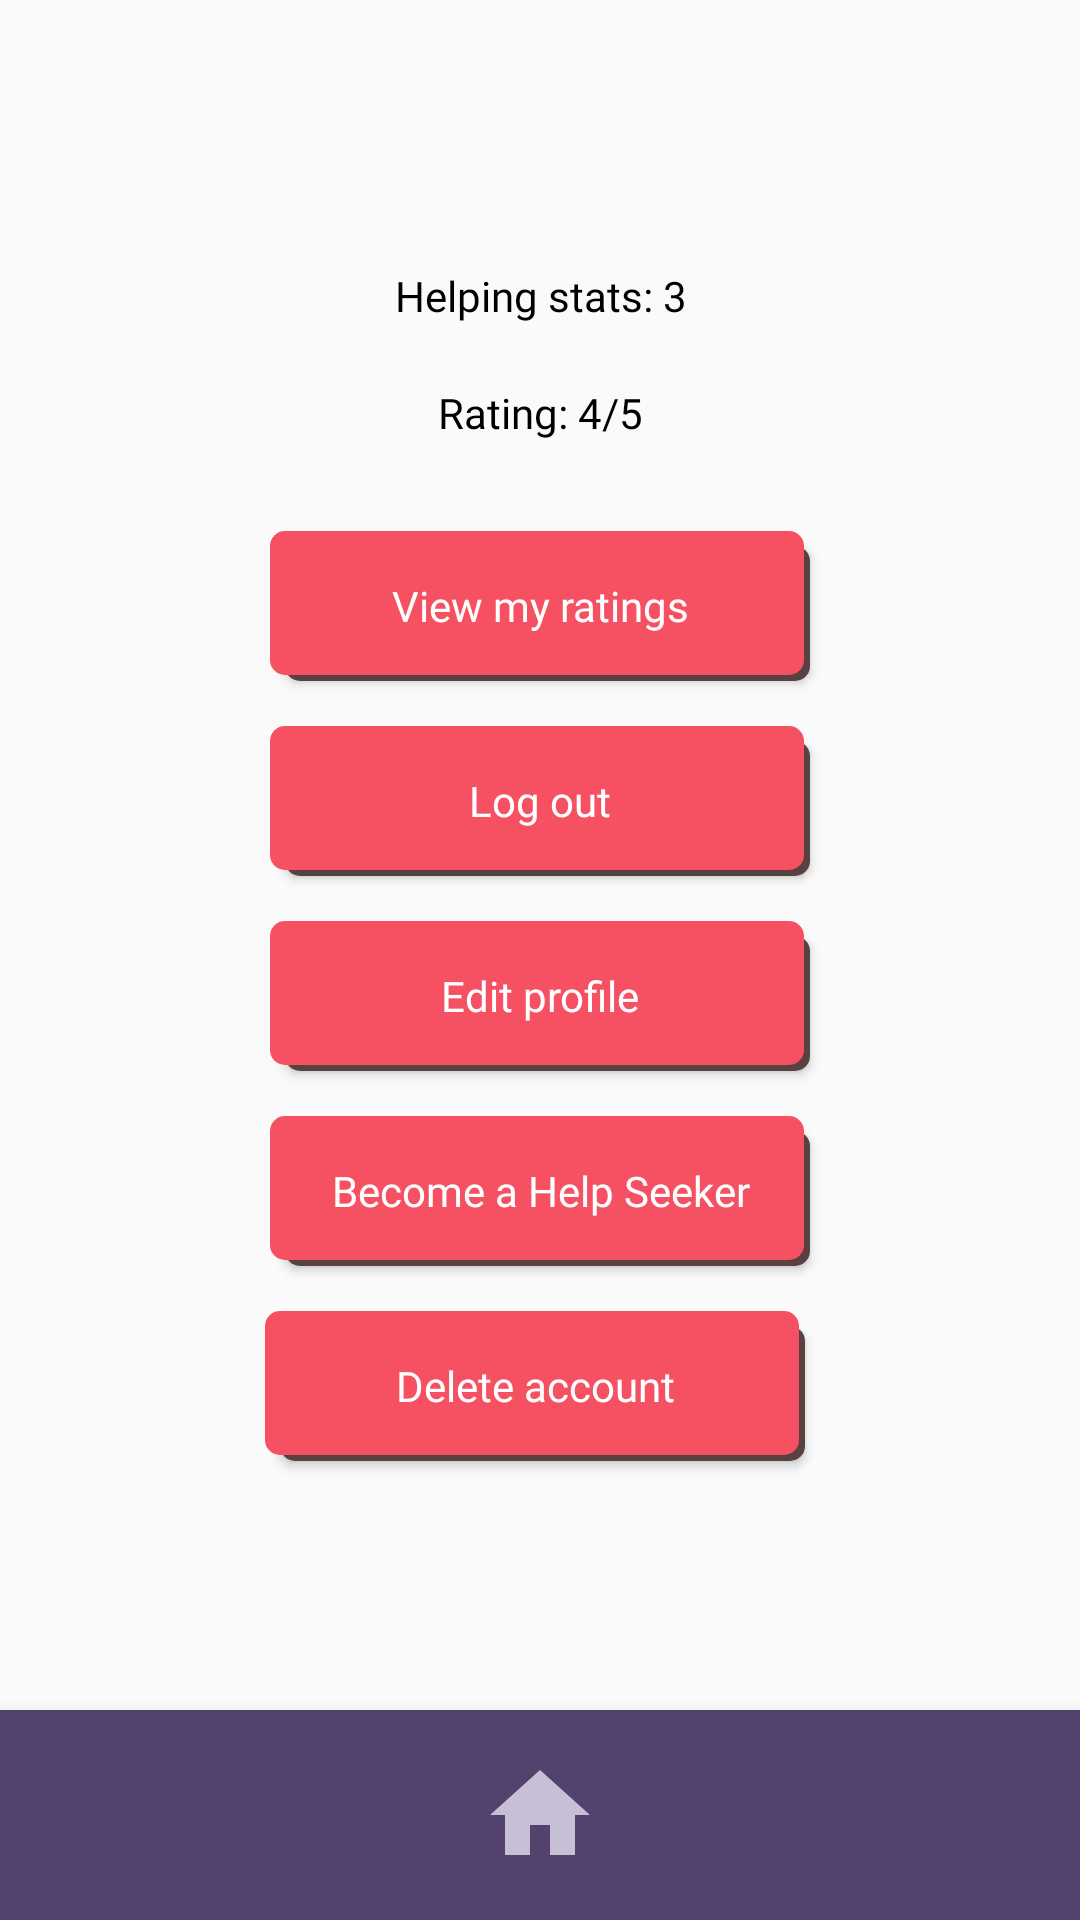

Screen size 1080x1920. Icon name, then its box in pixels as (x1, y1, x2, y2):
home: (490, 1770, 590, 1855)
